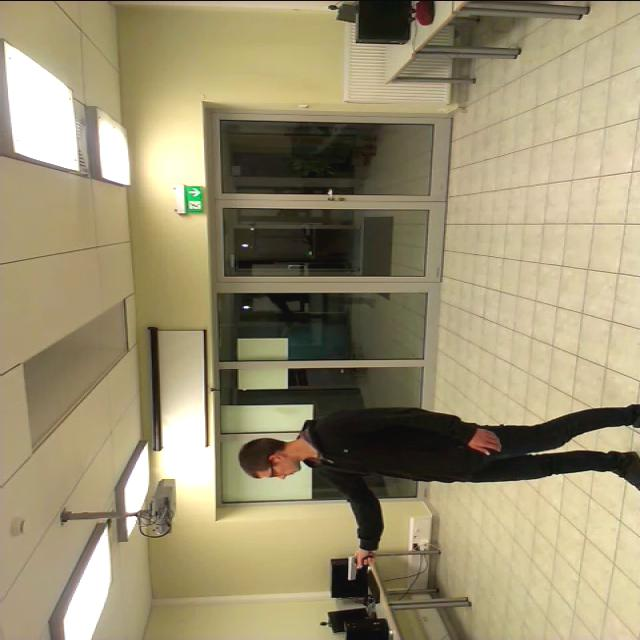handgun: (339, 549, 377, 579)
